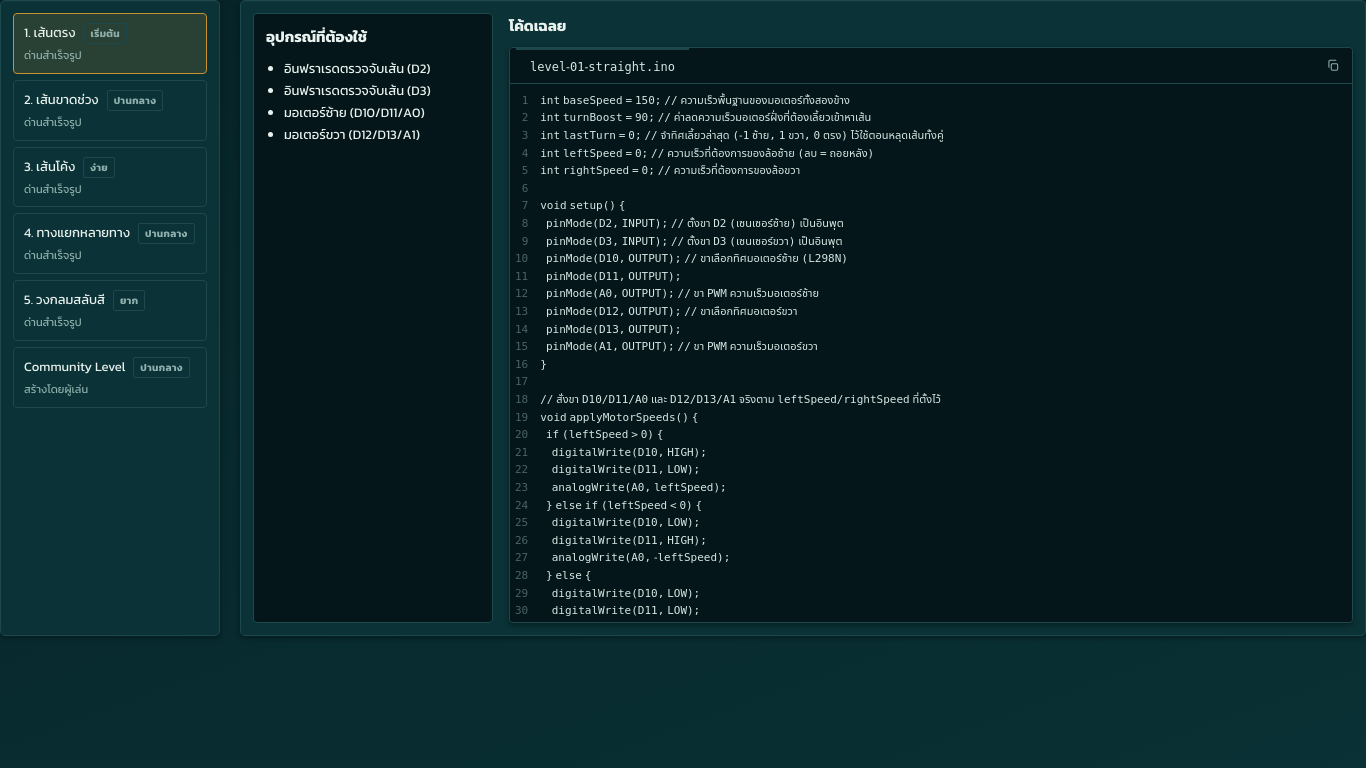
Scenario: AdminLevelsTab › shows built-in levels with their solution code and lets admin delete only user-created ones
The width and height of the screenshot is (1366, 768).
Expected: the text "pinMode(D2, INPUT); // ตั้งขา D2 (เซนเซอร์ซ้าย) เป็นอินพุต" is shown, [540,215,860,233]
Click the text "Community Level" at (75, 367), box [24,356,125,378]
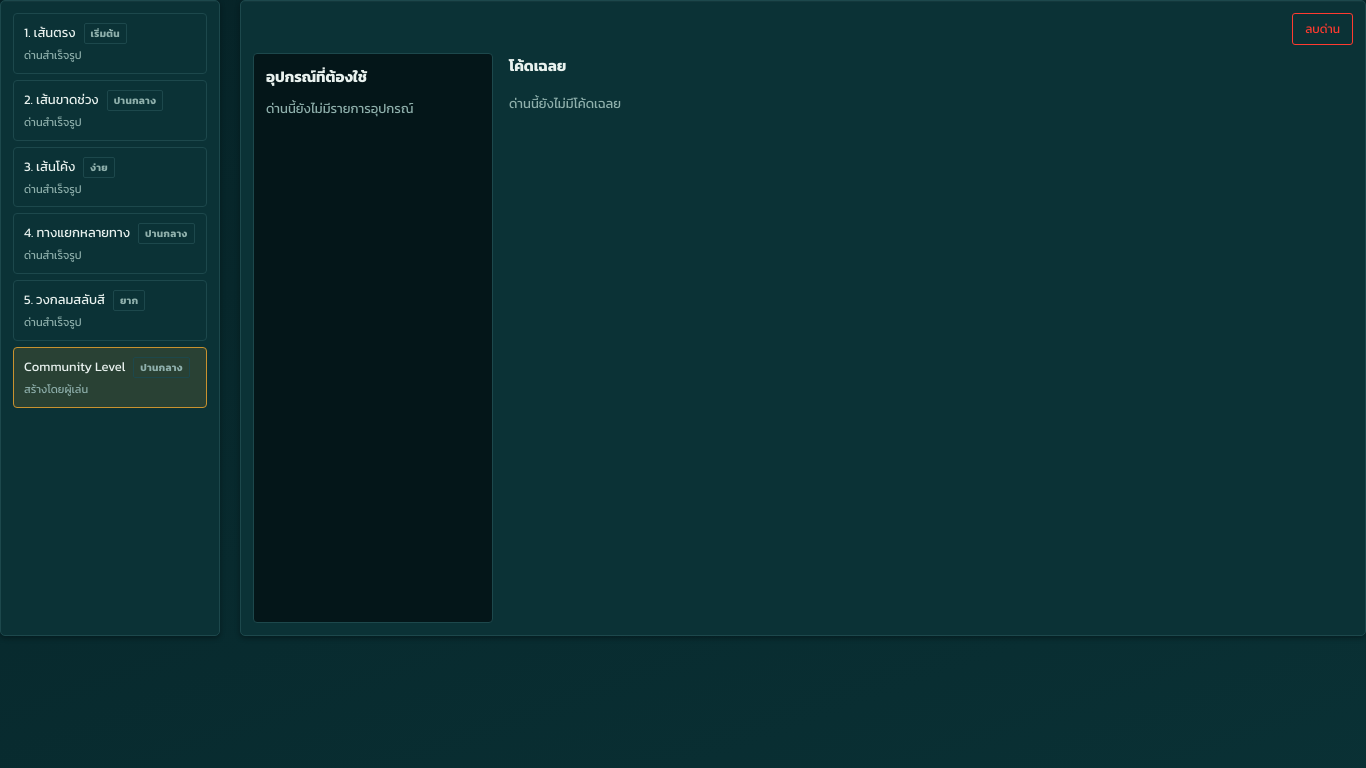
Expected: the button "ลบด่าน" is shown
Click the button "ลบด่าน" at (1323, 29), box [1292,13,1353,45]
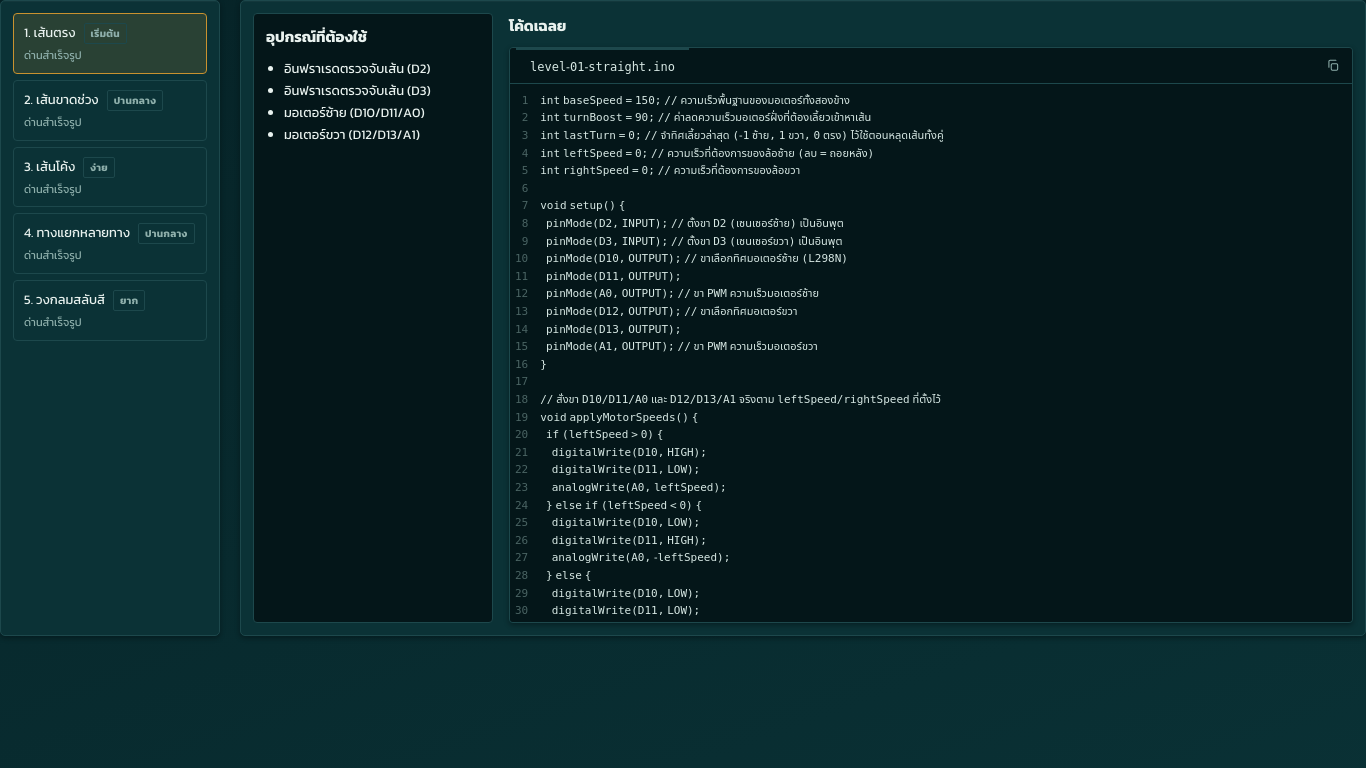
Expected: the button "Community Level" is gone
